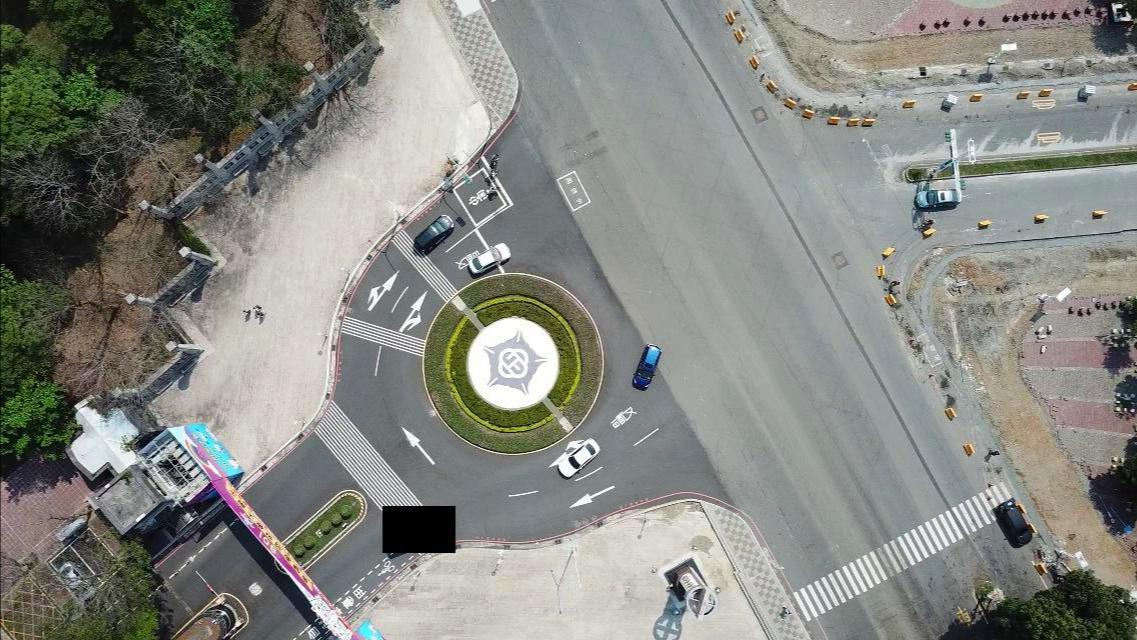vehicle: (993, 497, 1035, 548), (556, 436, 601, 477), (58, 559, 97, 602), (411, 214, 453, 253), (467, 242, 512, 274), (632, 342, 662, 390), (915, 187, 961, 210)
